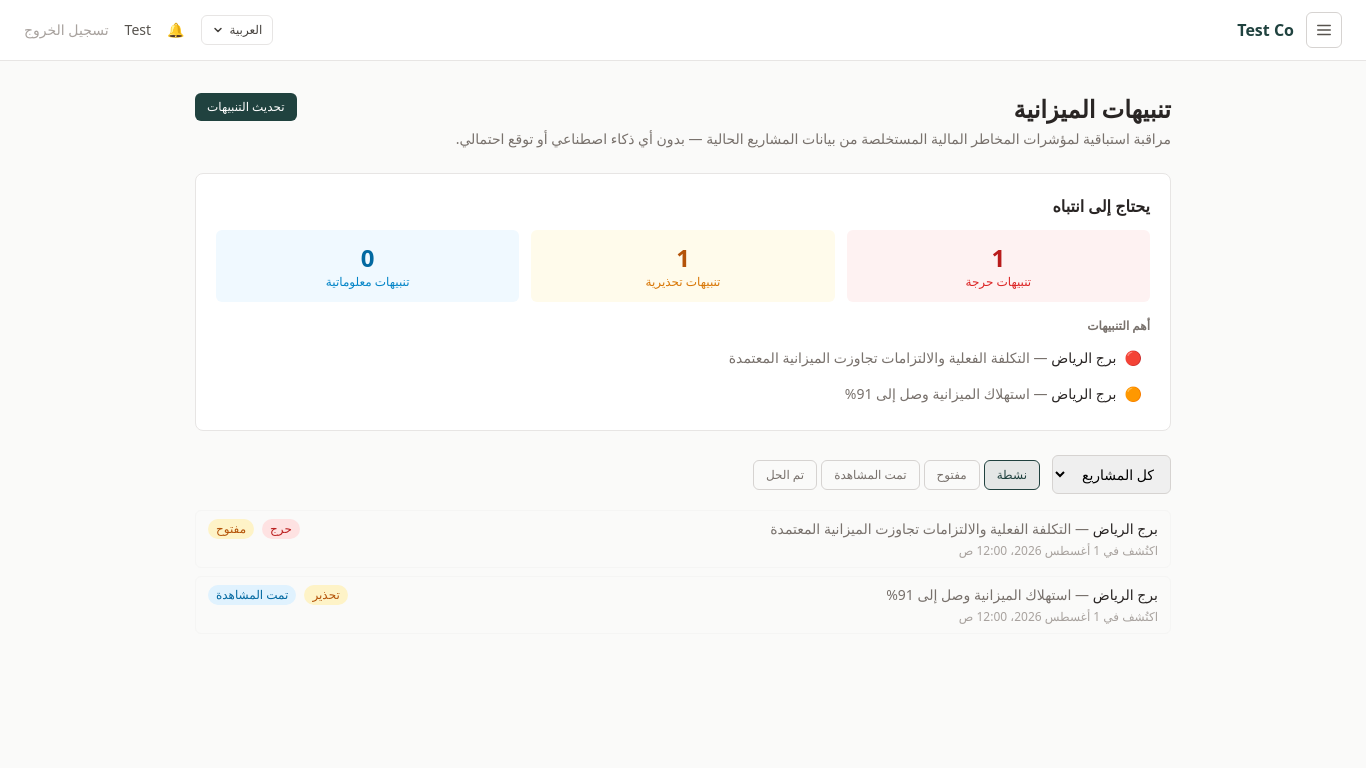
Test: <BudgetAlerts/> › filtering the list by status narrows the below-the-fold list (summary card is unaffected)
Expected: the text "— التكلفة الفعلية والالتزامات تجاوزت الميزانية المعتمدة" below "أهم التنبيهات" is shown, [729, 348, 1030, 367]
Click the button "تم الحل": [785, 474] box [753, 460, 817, 490]
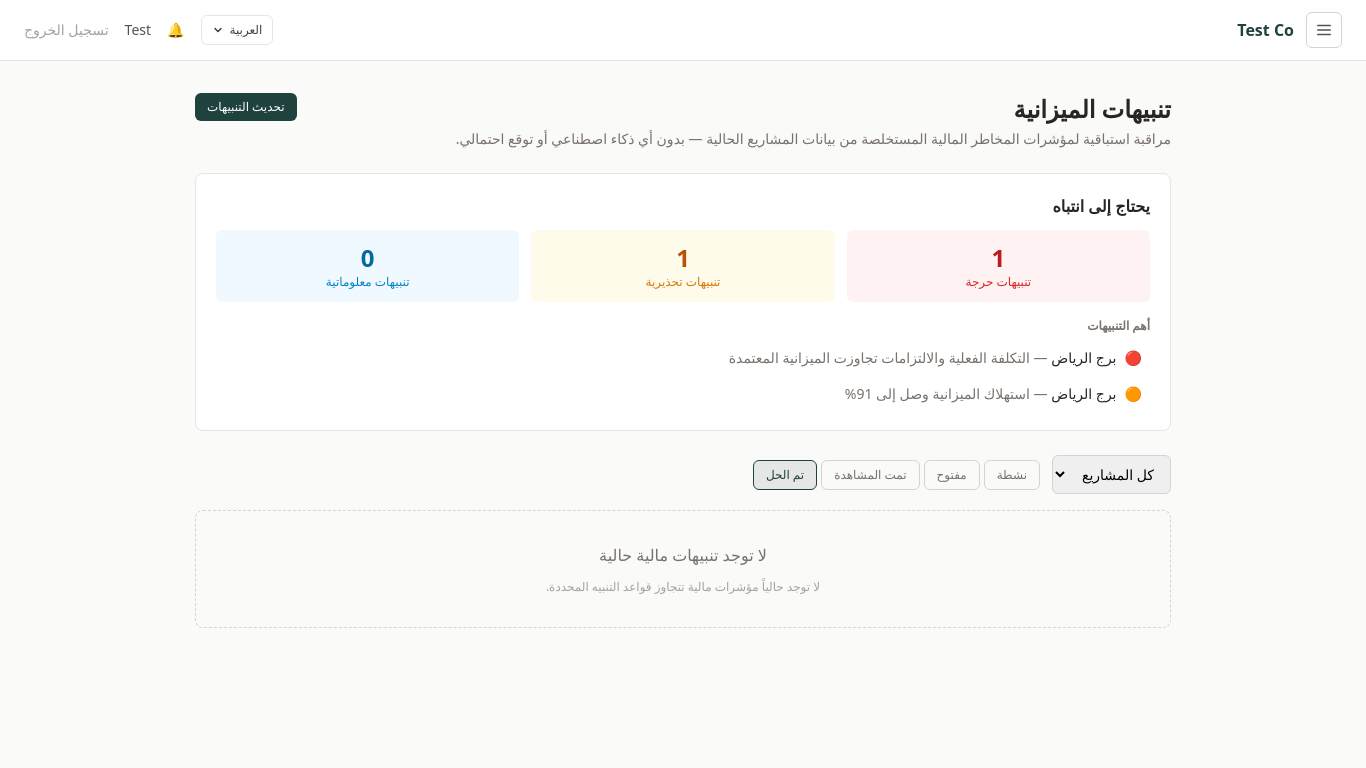
Expected: the text "— التكلفة الفعلية والالتزامات تجاوزت الميزانية المعتمدة" is shown, [729, 348, 1051, 367]
Now the text "لا توجد تنبيهات مالية حالية" is shown, box [599, 544, 767, 566]
